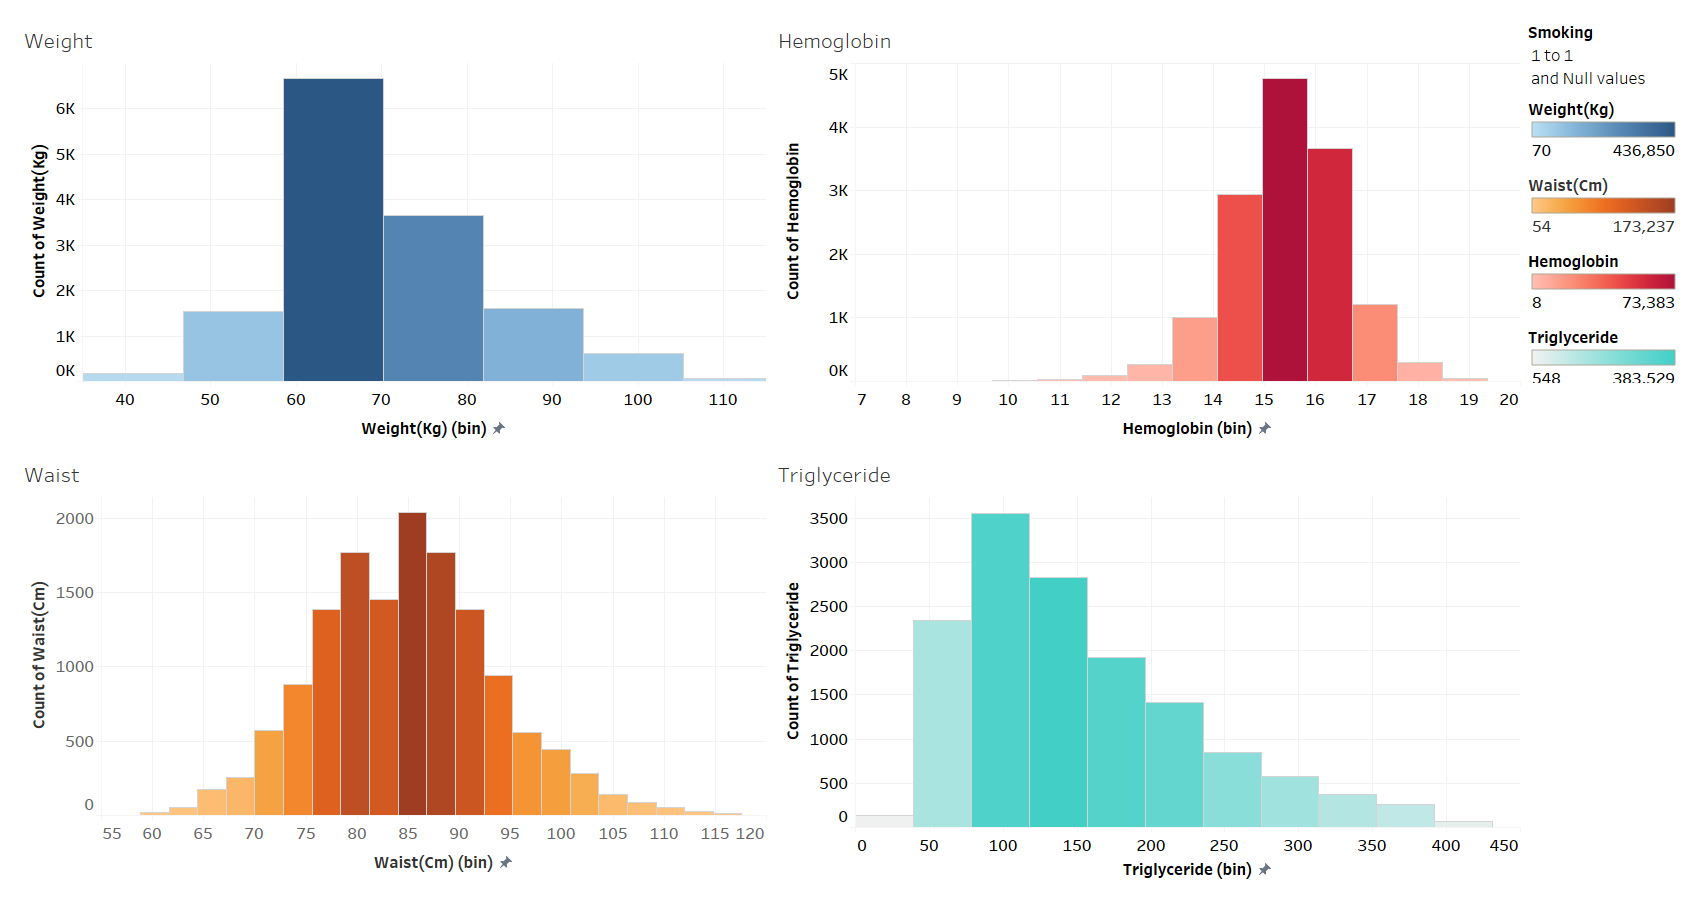

This screenshot's page, from the dashboard's own definition file:
{"tool":"tableau","page":{"name":"Smoking Dashboard","canvas":[1700,900],"ordinal":0},"visuals":[{"type":"worksheet","title":"Weight","mark":"Automatic","rows":["weight(kg)"],"cols":["Weight(Kg) (bin)"],"box":[16,16,754,434]},{"type":"worksheet","title":"Hemoglobin","mark":"Automatic","rows":["hemoglobin"],"cols":["Hemoglobin (bin)"],"box":[770,16,754,434]},{"type":"filter","title":"Weight","param":"[federated.01k2iy213sc6oz12y0rm01hf327z].[none:smoking:qk]","box":[1524,16,160,69]},{"type":"legend","title":"Weight","param":"[federated.01k2iy213sc6oz12y0rm01hf327z].[sum:weight(kg):qk]","box":[1524,85,160,65]},{"type":"legend","title":"Waist","param":"[federated.01k2iy213sc6oz12y0rm01hf327z].[sum:waist(cm):qk]","box":[1524,150,160,65]},{"type":"legend","title":"Hemoglobin","param":"[federated.01k2iy213sc6oz12y0rm01hf327z].[sum:hemoglobin:qk]","box":[1524,215,160,65]},{"type":"legend","title":"Triglyceride","param":"[federated.01k2iy213sc6oz12y0rm01hf327z].[sum:triglyceride:qk]","box":[1524,280,160,69]},{"type":"worksheet","title":"Waist","mark":"Automatic","rows":["waist(cm)"],"cols":["Waist(Cm) (bin)"],"box":[16,450,754,434]},{"type":"worksheet","title":"Triglyceride","mark":"Automatic","rows":["triglyceride"],"cols":["Triglyceride (bin)"],"box":[770,450,754,434]}]}

Visuals, with their boxes in screenshot pixels (x1, y1, x2, y2), scaled from the page's 1700x900 canvas onto the 1700x900 screenshot:
"Weight" worksheet: pyautogui.locateOnScreen(16, 16, 770, 450)
"Hemoglobin" worksheet: pyautogui.locateOnScreen(770, 16, 1524, 450)
"Weight" filter: pyautogui.locateOnScreen(1524, 16, 1684, 85)
"Weight" legend: pyautogui.locateOnScreen(1524, 85, 1684, 150)
"Waist" legend: pyautogui.locateOnScreen(1524, 150, 1684, 215)
"Hemoglobin" legend: pyautogui.locateOnScreen(1524, 215, 1684, 280)
"Triglyceride" legend: pyautogui.locateOnScreen(1524, 280, 1684, 349)
"Waist" worksheet: pyautogui.locateOnScreen(16, 450, 770, 884)
"Triglyceride" worksheet: pyautogui.locateOnScreen(770, 450, 1524, 884)
